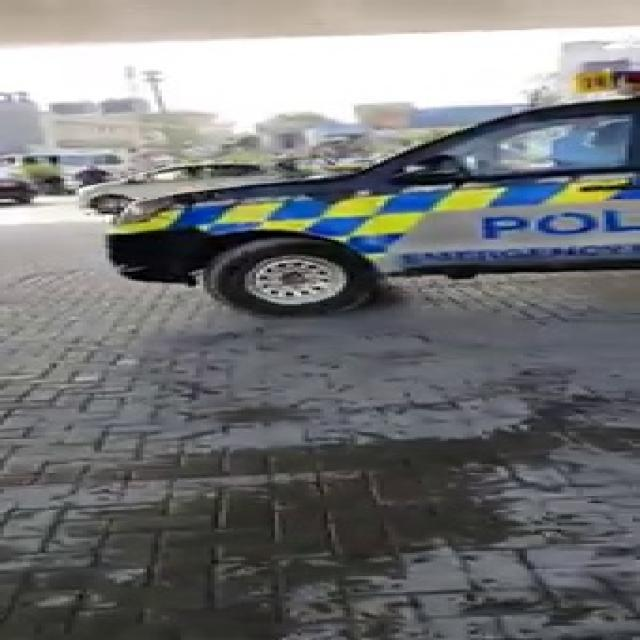police: (51, 52, 640, 304)
